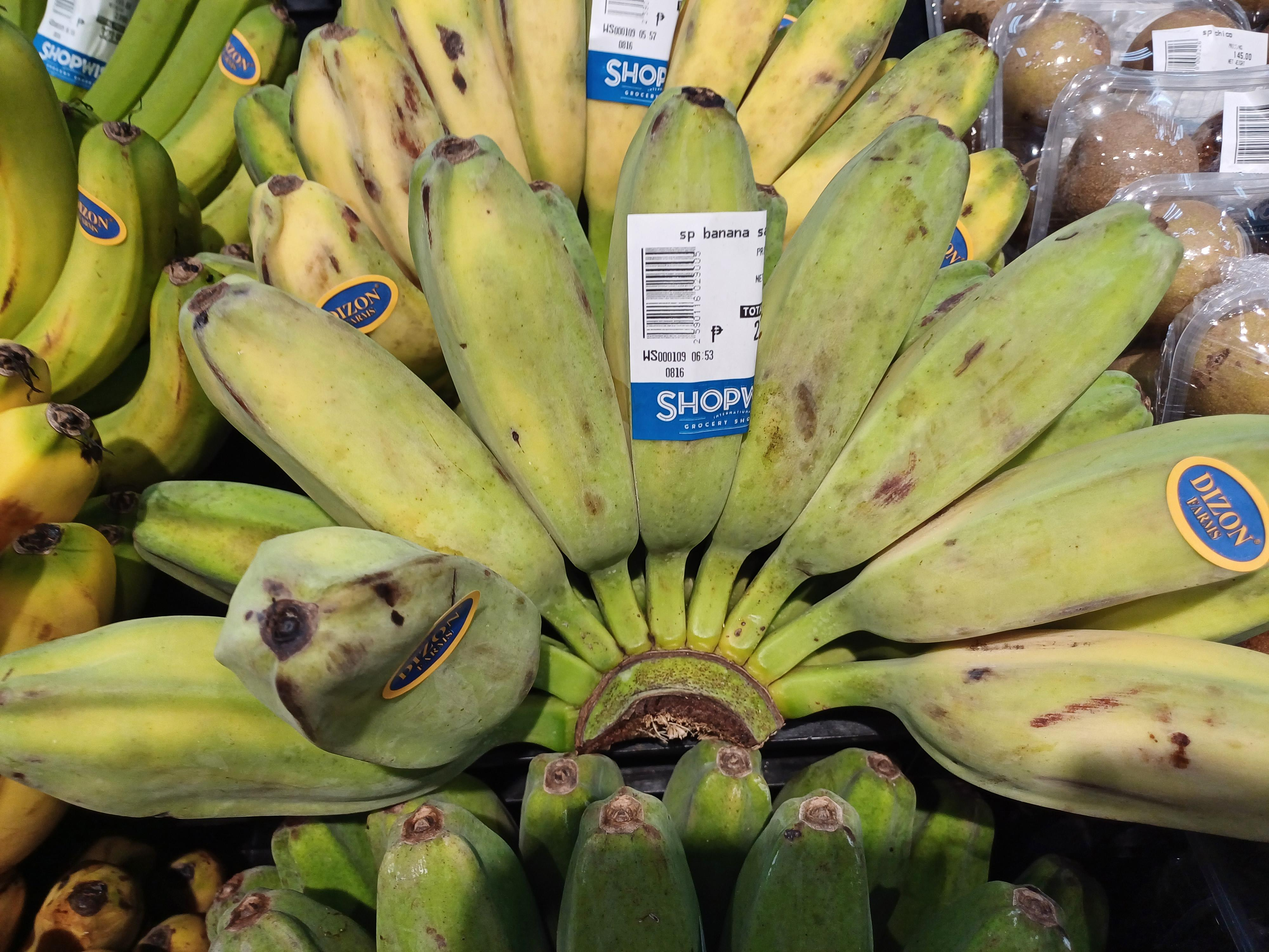underripe: (0, 88, 1268, 840), (249, 0, 997, 379), (206, 737, 1108, 952)
